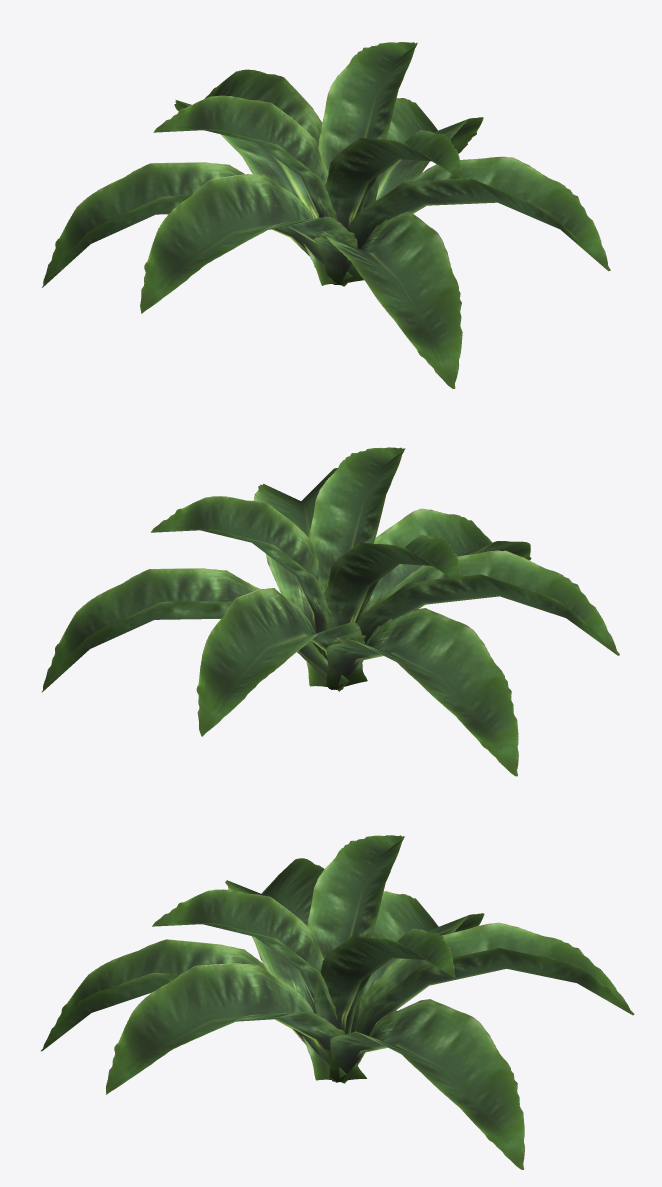
The model's file is plant2.FBX.
The picture shows the model from 3 angles, top to bottom: view 1: azimuth 30°, elevation 25°; view 2: azimuth 150°, elevation 25°; view 3: azimuth 270°, elevation 25°; orthographic projection.
Visible parts, largest first — view 1: plant2; view 2: plant2; view 3: plant2.
Boxes of the visible parts, left/top/right/bottom form: plant2: left=42, top=42, right=610, bottom=388; plant2: left=42, top=447, right=619, bottom=776; plant2: left=41, top=835, right=634, bottom=1169.
Size of the model in its own units: 12.46 by 4.6 by 12.94.
